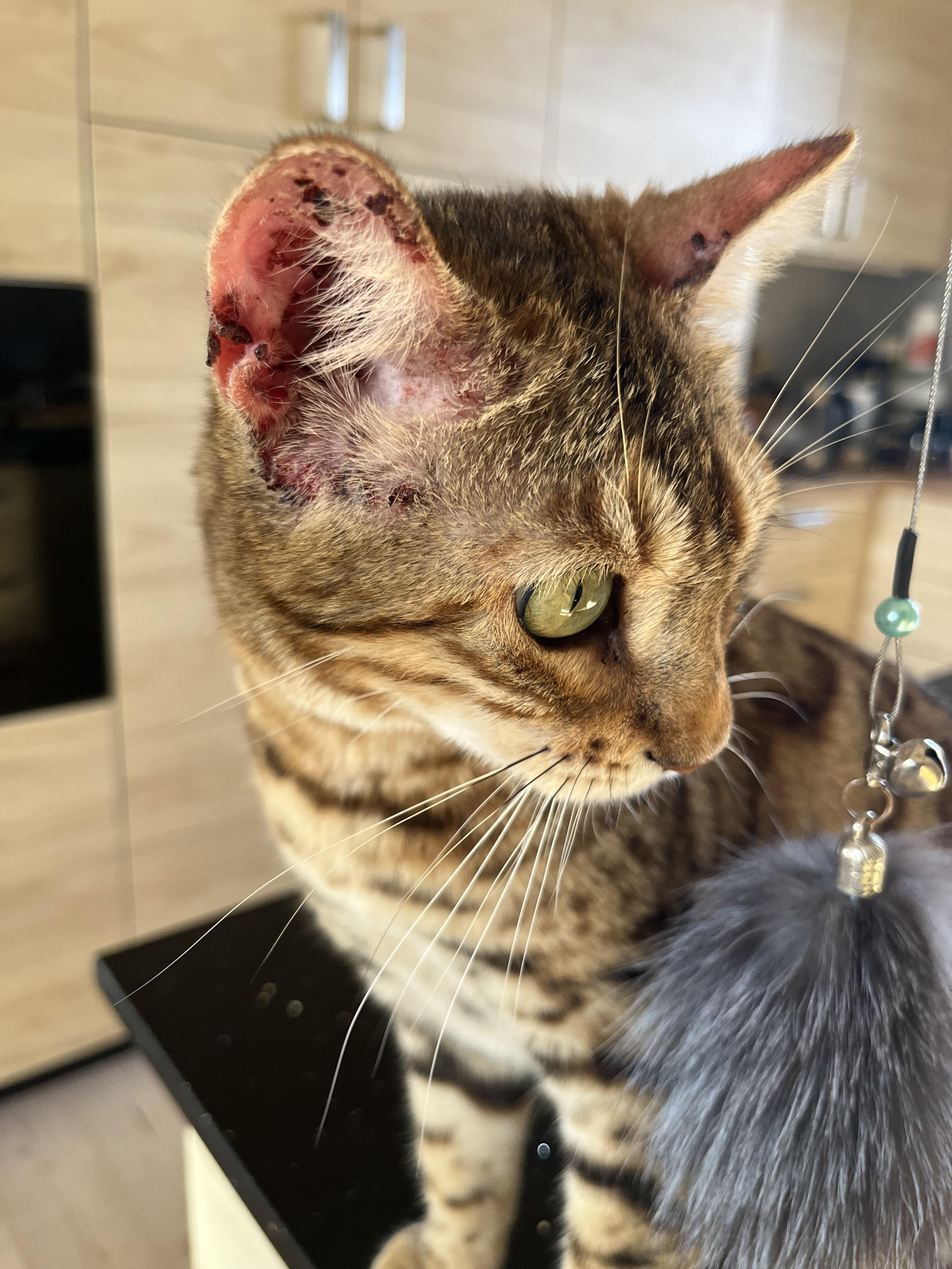infection: (161, 145, 574, 571)
